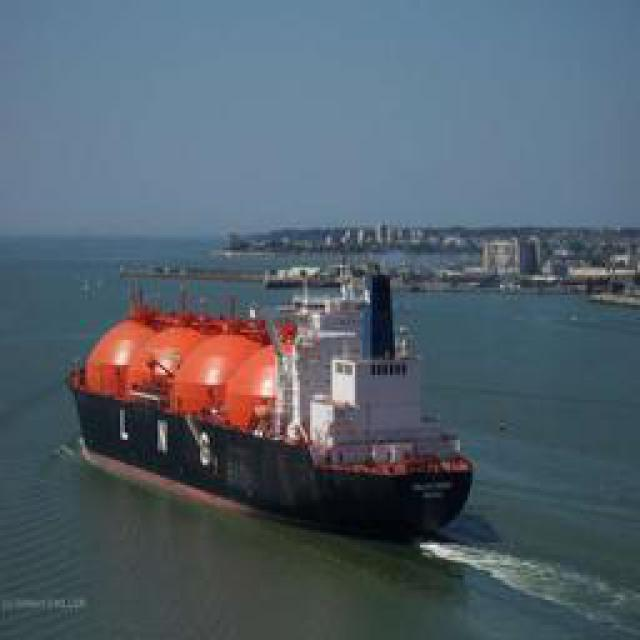Ship: (70, 256, 480, 544)
